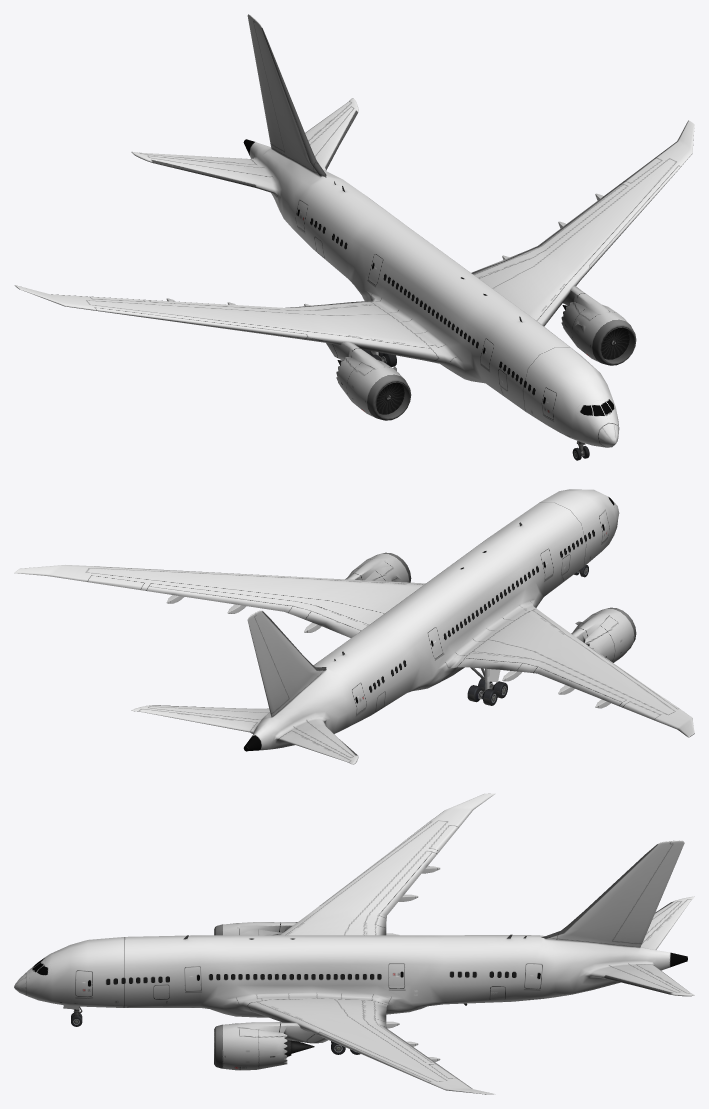
3 renders of one model, top to bottom at view 1: azimuth 30°, elevation 25°; view 2: azimuth 150°, elevation 25°; view 3: azimuth 270°, elevation 25°, orthographic. The views are drawn at different scales.
Visible parts, largest first — view 1: Asset3DLoader.sceneRoot; view 2: Asset3DLoader.sceneRoot; view 3: Asset3DLoader.sceneRoot.
Part boxes in pixels (x1,y1,x2,y2): Asset3DLoader.sceneRoot: (14, 14, 694, 460); Asset3DLoader.sceneRoot: (14, 489, 694, 764); Asset3DLoader.sceneRoot: (14, 793, 694, 1094).
Size of the model in its own units: 4.84 by 1.39 by 4.64.
3 materials, 2 textured.
